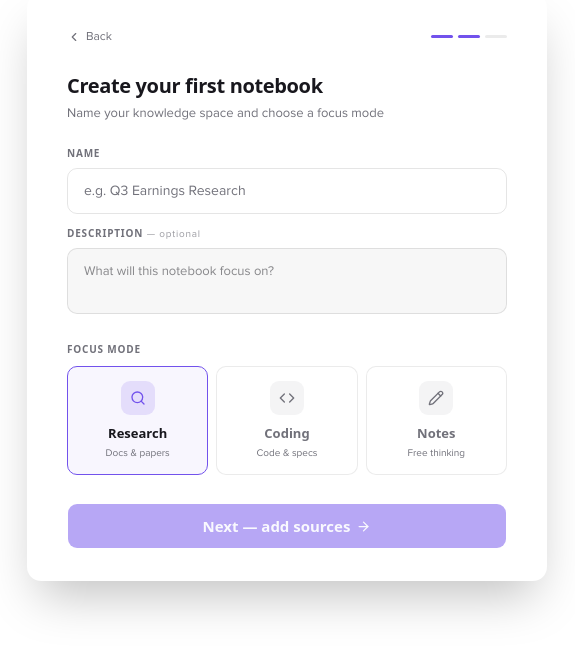
Test case: CreateNotebook — create_notebook IPC › shows an inline error and does NOT advance when create_notebook fails
Type "Test Notebook" into the field named "Notebook name" at (287, 191), box left=67, top=168, right=507, bottom=214
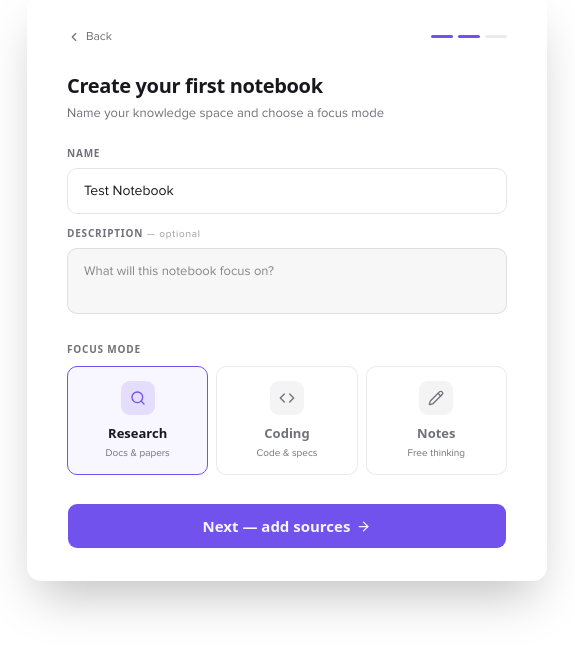
Click the button "Next — add sources" at (287, 526), box left=67, top=503, right=507, bottom=549
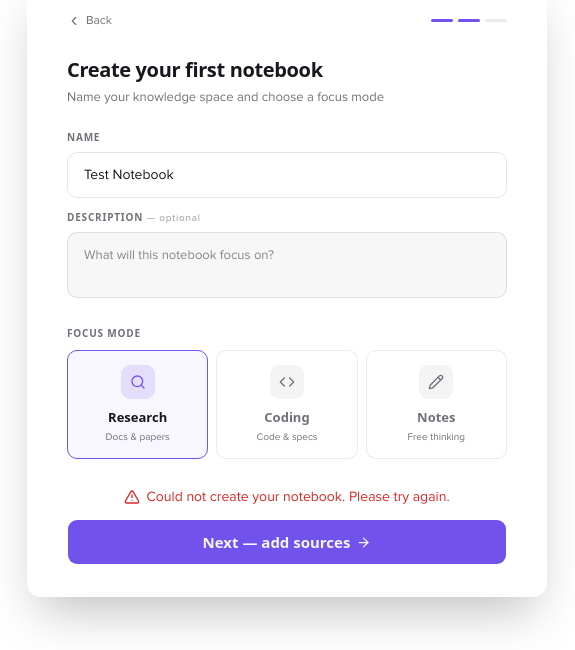
Result: the text "Could not create your notebook. Please try again." is shown at left=124, top=488, right=450, bottom=505
